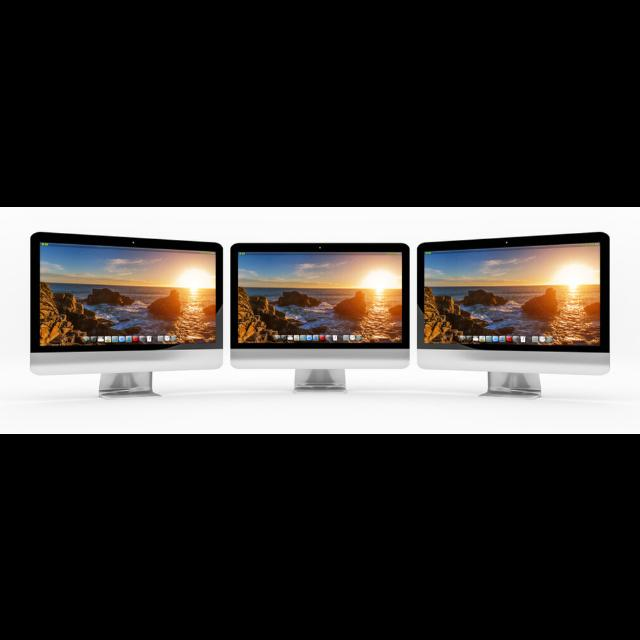Flat-Panel-Monitor: (26, 224, 614, 400)
